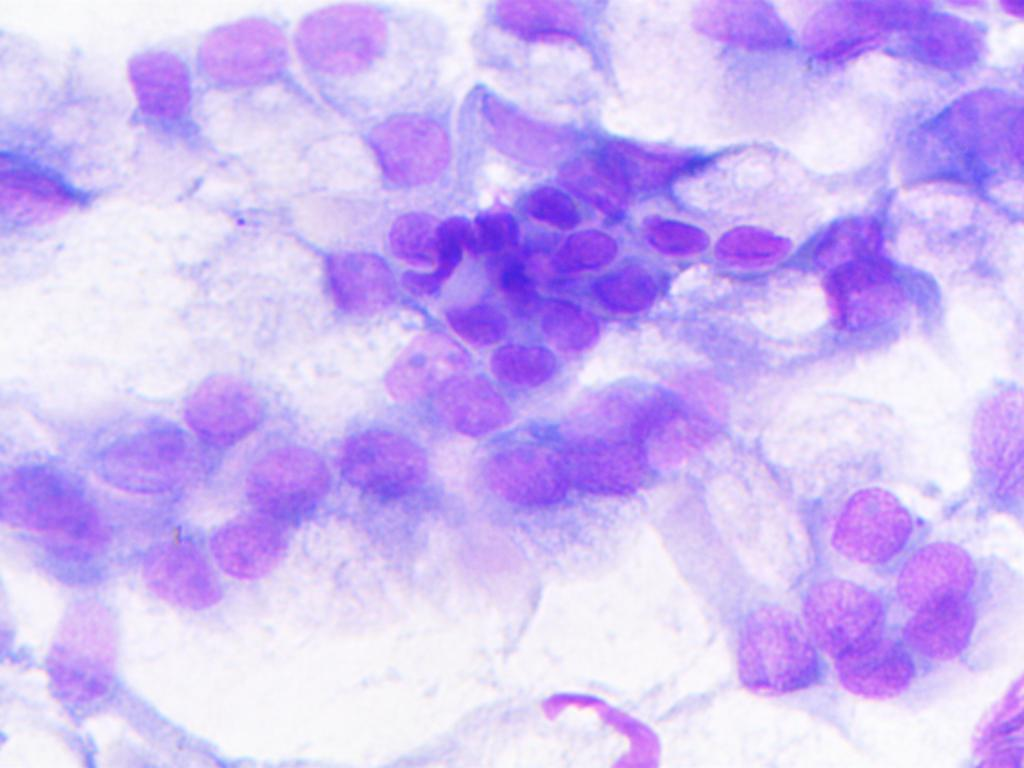epithelial: (879, 64, 1022, 196), (287, 2, 456, 110), (330, 419, 450, 565), (360, 327, 506, 433), (711, 575, 822, 712), (0, 117, 109, 256), (790, 215, 900, 346), (44, 568, 133, 720), (818, 426, 914, 561), (0, 450, 117, 559), (110, 499, 215, 615), (458, 426, 569, 532), (893, 538, 984, 660), (197, 5, 296, 109), (562, 416, 681, 498), (113, 29, 197, 143), (91, 399, 185, 499), (969, 369, 1024, 534), (790, 569, 891, 654), (364, 107, 457, 193), (708, 194, 801, 277), (183, 367, 287, 441), (237, 436, 328, 520), (826, 639, 917, 711), (680, 0, 804, 52), (204, 509, 292, 582), (632, 194, 713, 260)
goblet_cell: (150, 226, 398, 323)
metaplastic: (458, 191, 539, 310), (390, 205, 477, 302), (507, 164, 594, 237), (487, 340, 567, 395), (587, 255, 656, 317), (529, 296, 601, 348), (538, 227, 614, 270), (455, 302, 517, 334)
